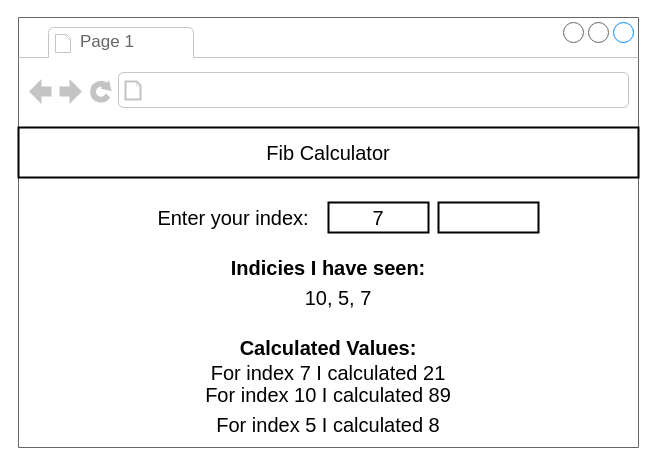
The diagram is 656 pixels wide and 465 high, and some of its shapes have lost their labels. Here are the shapes that lost their labels. From the top down, the centre of each, then its label:
(273,90): https://www.draw.io
(488,217): Submit
